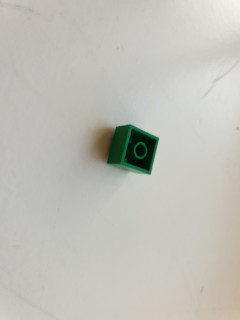2x2 green: (107, 124, 160, 175)
